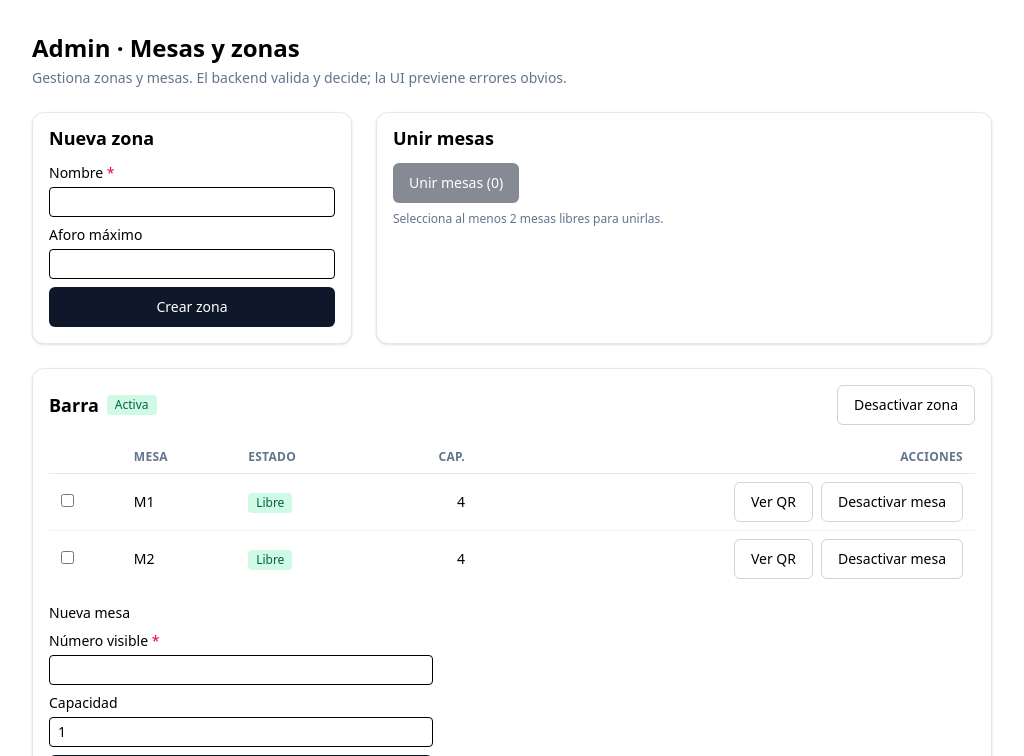
Test: Vista Admin (hardening §20) › habilita 'Unir mesas' solo con 2+ mesas libres (REG-20-20)
The image size is (1024, 756).
Expected: the heading "Barra" is shown, [49,396,99,414]
Expected: the button "Unir mesas (0)" is disabled, [393,163,519,203]
Click the checkbox named "seleccionar M1". click: (68, 500)
box: [61,494,74,507]
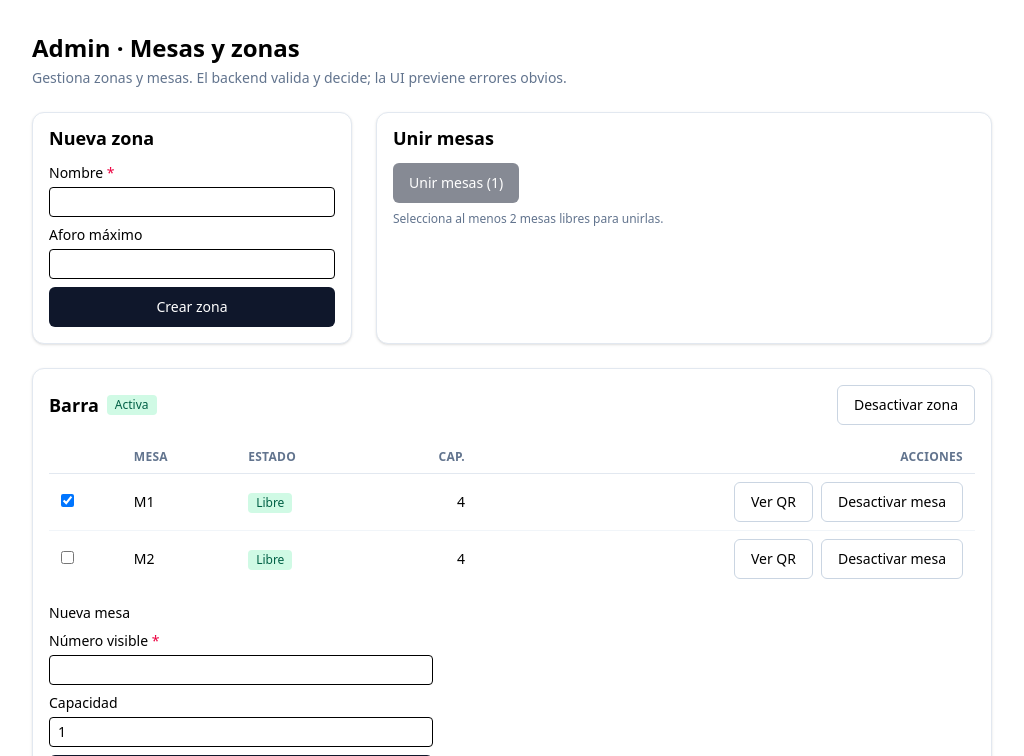
Expected: the button "Unir mesas (1)" is disabled, [393,163,519,203]
Click the checkbox named "seleccionar M2". click: (68, 558)
box: [61,551,74,564]
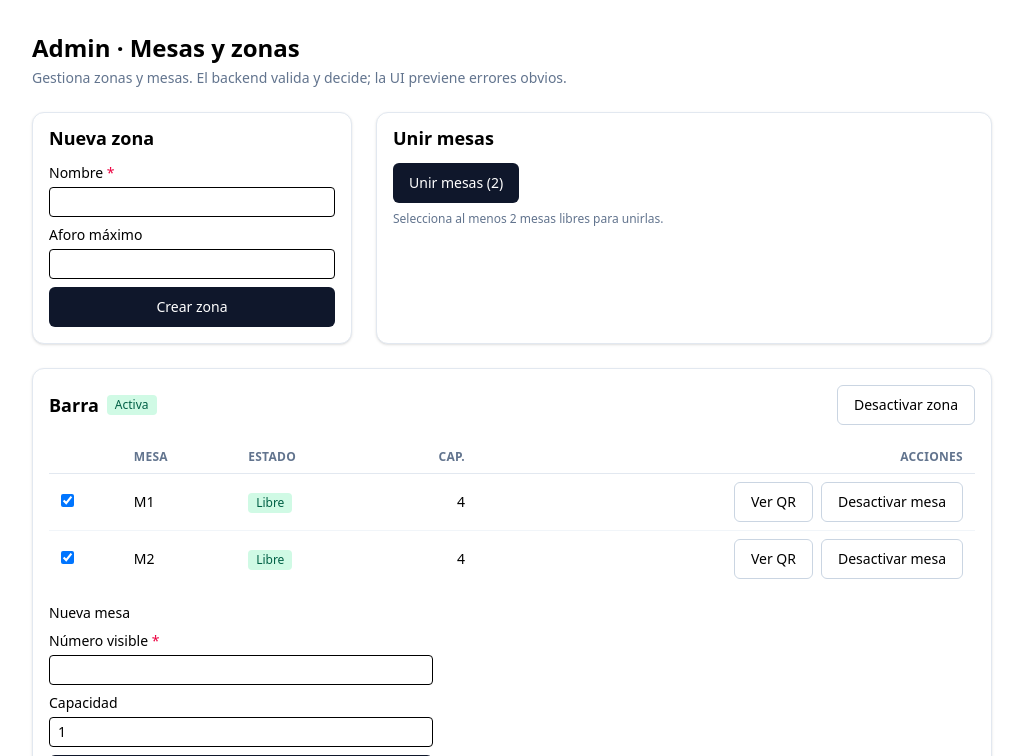
Result: the button "Unir mesas (2)" is enabled at [393,163,519,203]
